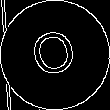O_S: (27, 25, 83, 85)
